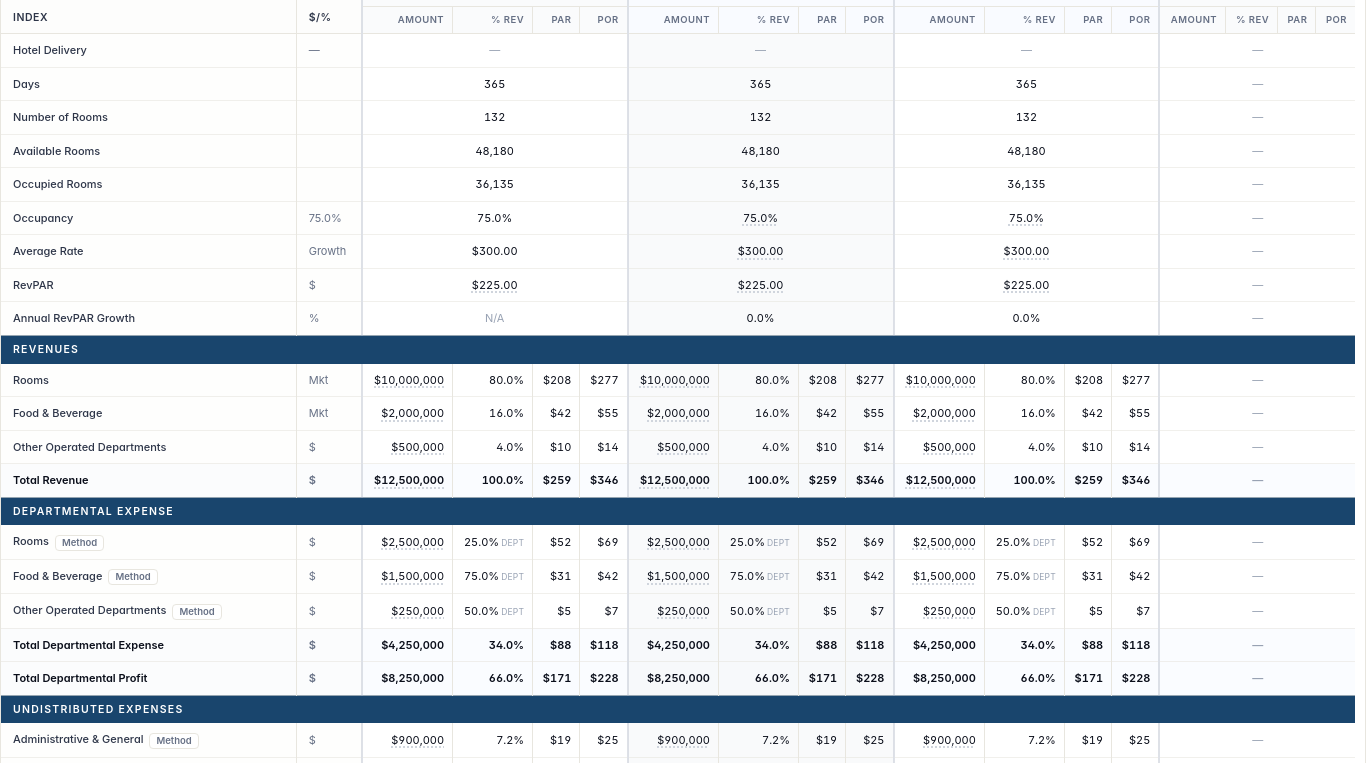
Test: P&L · Future P&L — click-through to the lineage drawer (E-015) › a covered cell renders the recorded walk — the engine value, its inputs and the source page
(page scrolled)
Click the button with class "rooms_revenue".
click(675, 380)  # box left=638, top=372, right=712, bottom=388
(page scrolled)
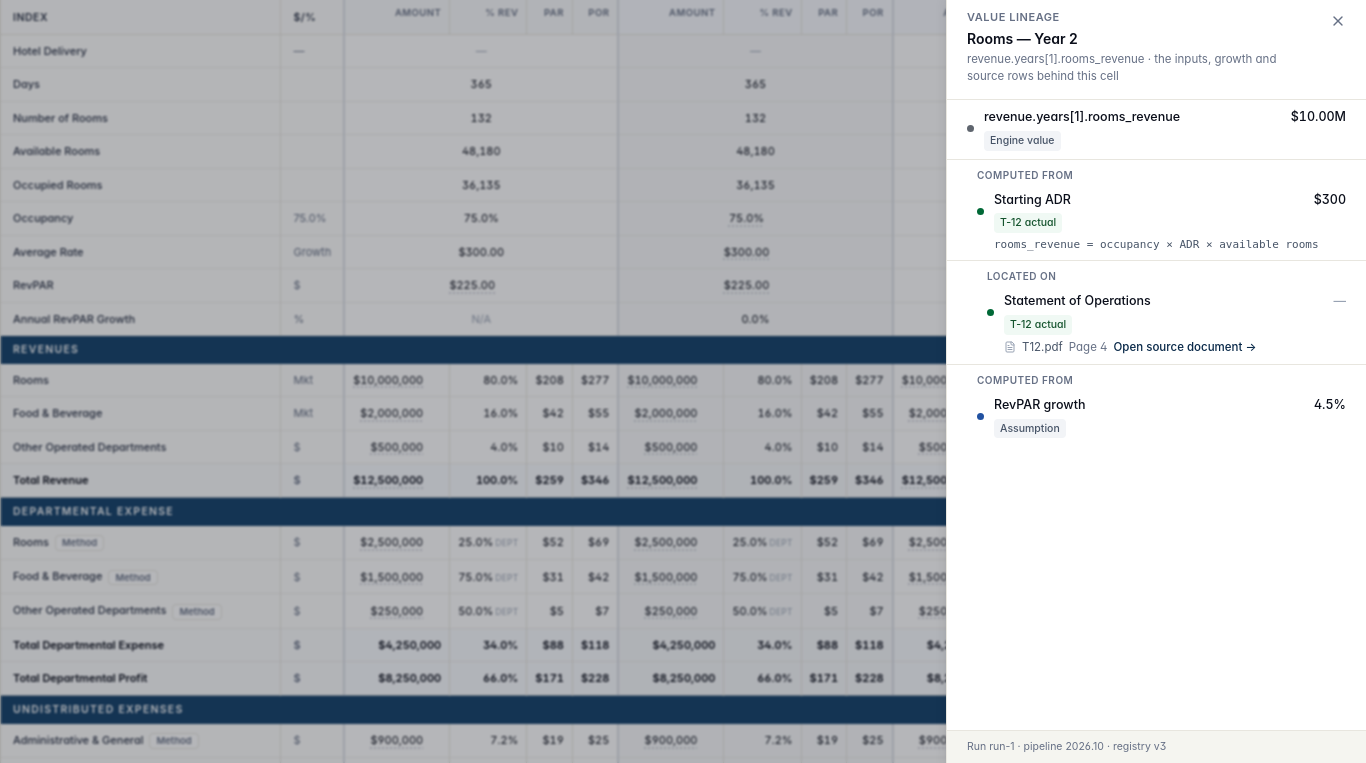
Check: the text "rooms_revenue = occupancy × ADR × available rooms" is shown, box left=994, top=237, right=1346, bottom=252
Check: the text "T12.pdf" is shown, box left=1022, top=339, right=1063, bottom=356
